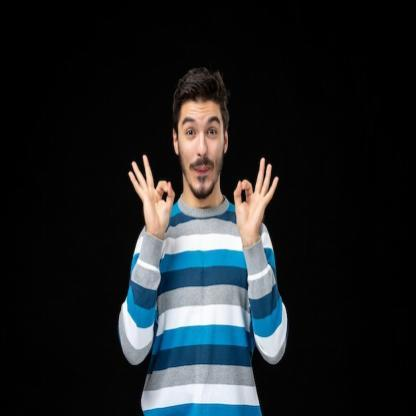ok: (125, 155, 178, 245), (233, 155, 280, 247)
